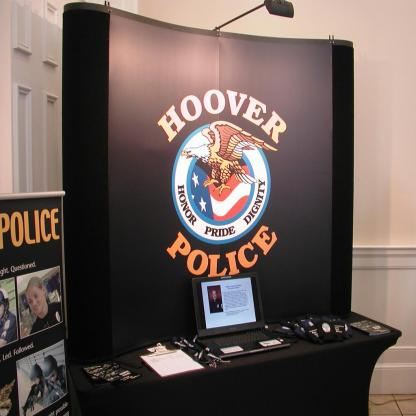board: (190, 269, 289, 359)
